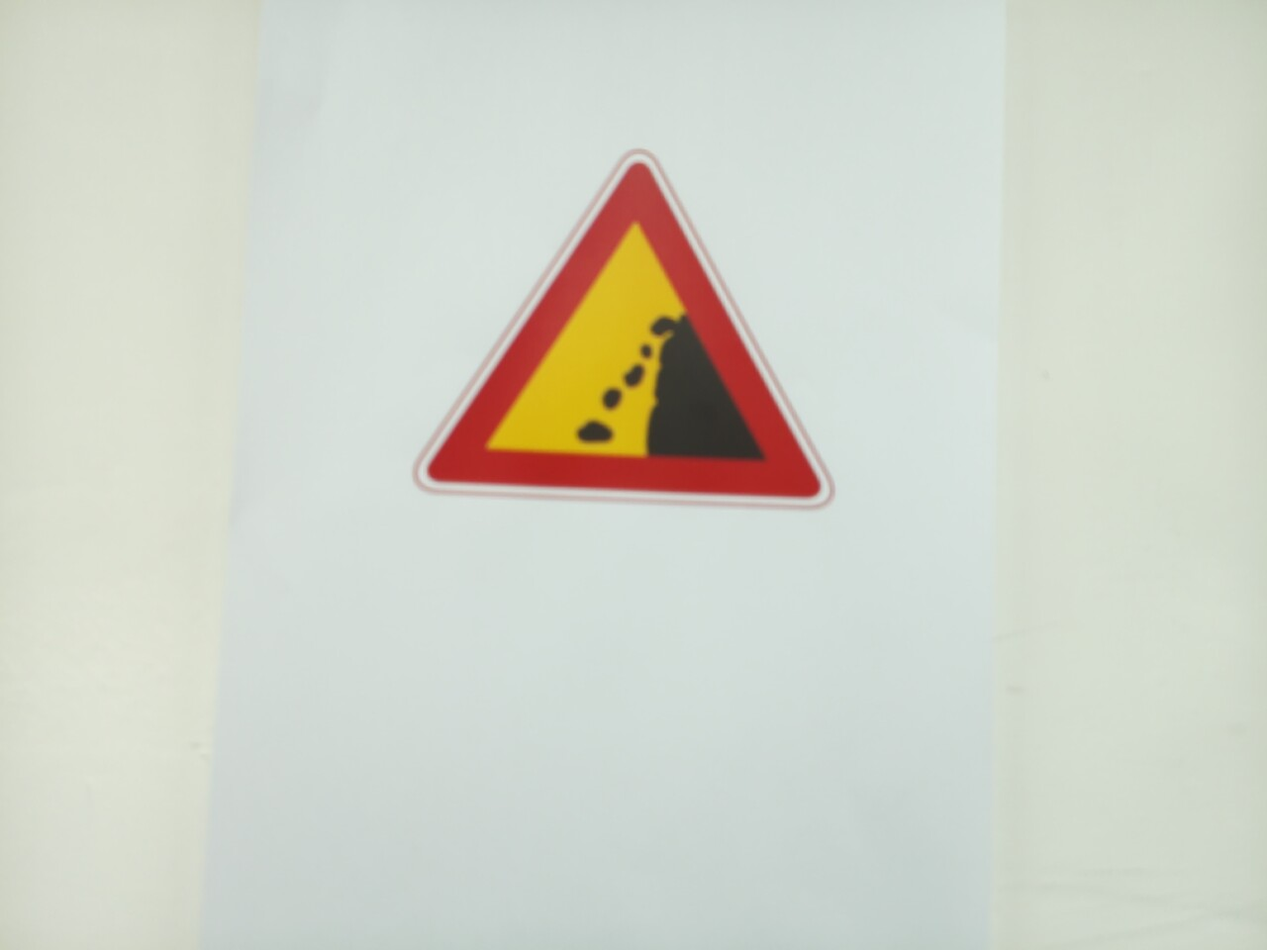falling_rocks: (416, 152, 832, 508)
